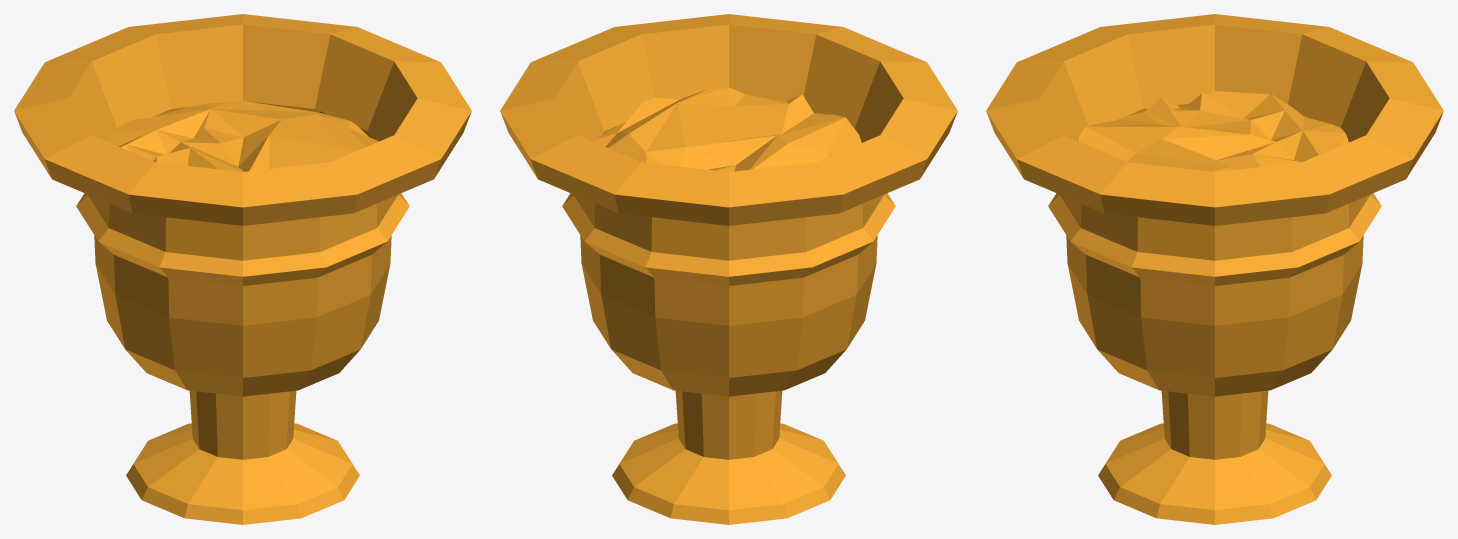
File: SM_City_Planter_Street_D_Empty.fbx
3 renders of one model, left to right at view 1: azimuth 30°, elevation 25°; view 2: azimuth 150°, elevation 25°; view 3: azimuth 270°, elevation 25°, orthographic.
Visible parts, largest first — view 1: SM_City_Planter_Street_D_Empty; view 2: SM_City_Planter_Street_D_Empty; view 3: SM_City_Planter_Street_D_Empty.
Part boxes in pixels (bbox=[...]): SM_City_Planter_Street_D_Empty: bbox=[14, 14, 471, 524]; SM_City_Planter_Street_D_Empty: bbox=[500, 14, 957, 524]; SM_City_Planter_Street_D_Empty: bbox=[986, 14, 1443, 524].
Bounding box in the file's own units: 0.8265 × 0.7514 × 0.8265.
